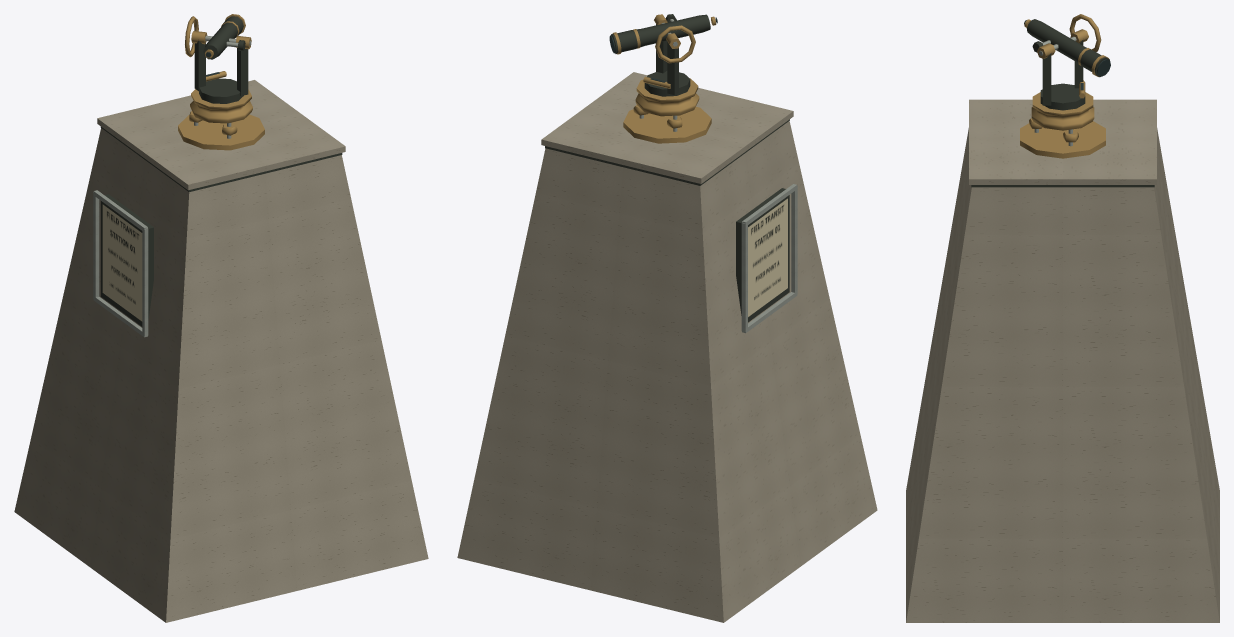
Rendered from SM_FieldKit_Transit_LOD2.fbx.
3 views of the same model, side by side, from view 1: azimuth 30°, elevation 25°; view 2: azimuth 150°, elevation 25°; view 3: azimuth 270°, elevation 25° (orthographic). The views are drawn at different scales.
Visible parts, largest first — view 1: SM_FieldKit_Transit_LOD2; view 2: SM_FieldKit_Transit_LOD2; view 3: SM_FieldKit_Transit_LOD2.
Part boxes in pixels (<box>): SM_FieldKit_Transit_LOD2: <box>14,14,428,622</box>; SM_FieldKit_Transit_LOD2: <box>457,14,877,622</box>; SM_FieldKit_Transit_LOD2: <box>906,14,1219,622</box>.
Bounding box in the file's own units: 0.9 × 0.9 × 1.68.
